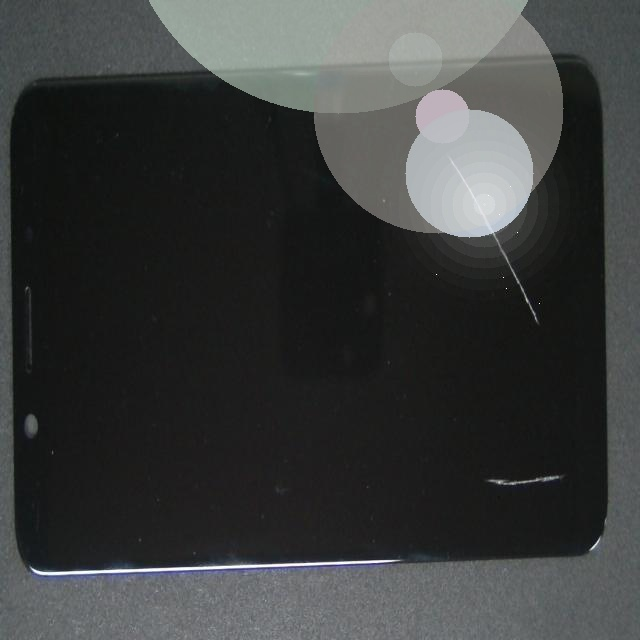scratch: (230, 250, 640, 640), (202, 31, 640, 242)
